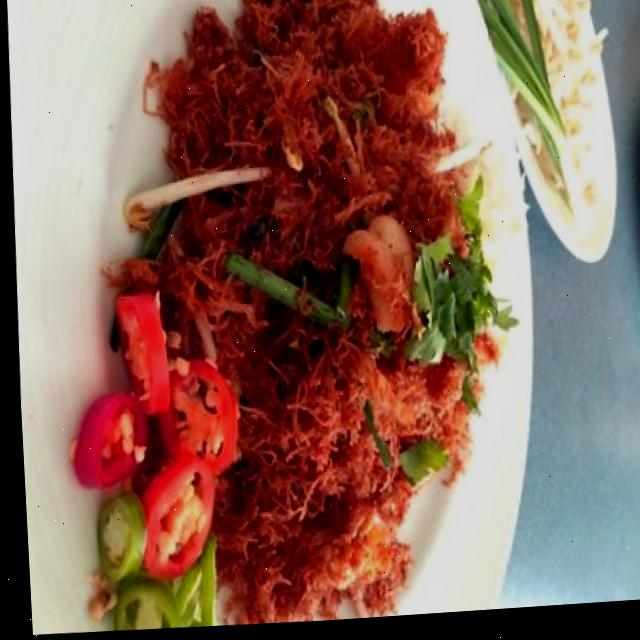面条主食: (22, 0, 563, 639)
